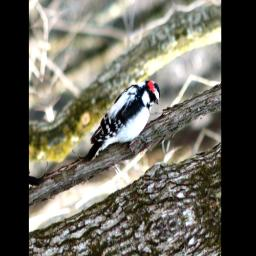Woodpecker: (69, 70, 169, 172)
